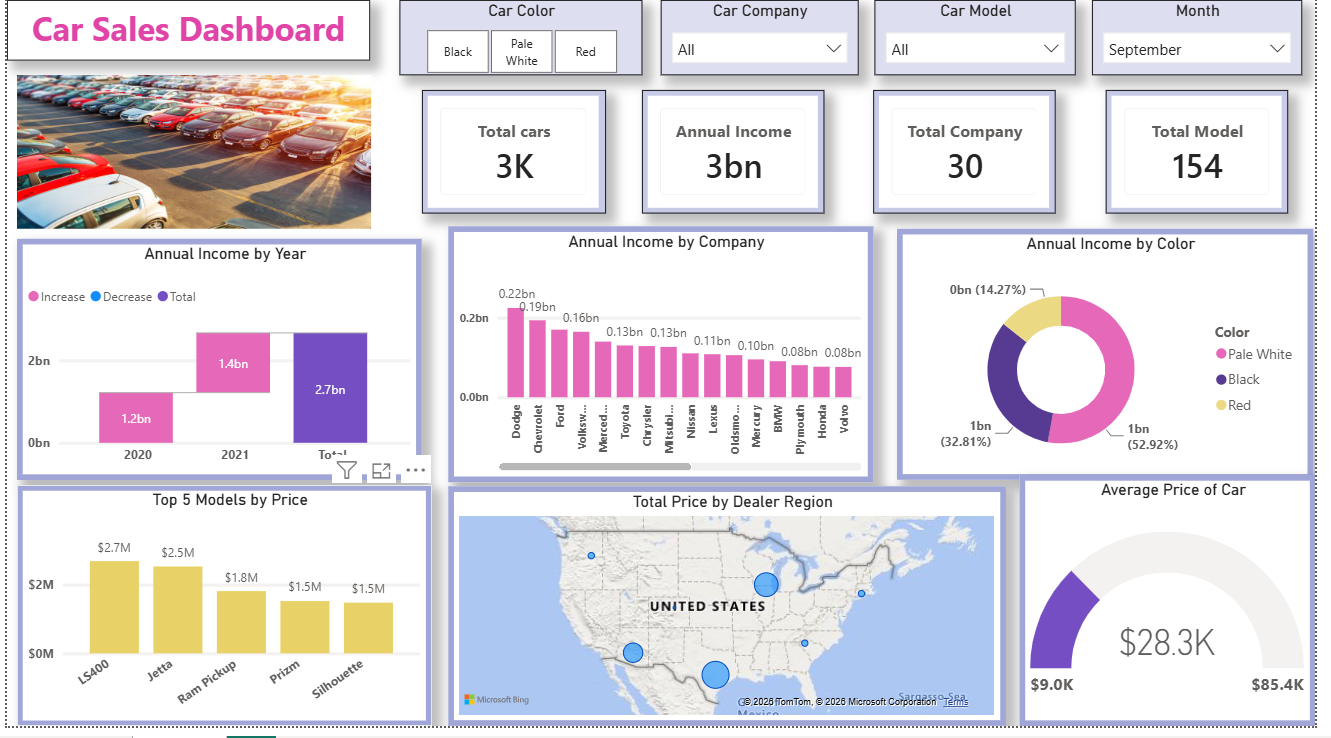

The page's visual inventory and layout, read from the dashboard file:
{"tool":"powerbi","page":{"name":"Page 1","canvas":[1280,720],"ordinal":0},"visuals":[{"type":"textbox","box":[0,9.6,355.4,59],"z":0},{"type":"slicer","title":"Car Color","fields":{"Values":["Sheet1.Color"]},"box":[384,9.8,237.2,73.4],"z":1000},{"type":"slicer","title":"Car Company","fields":{"Values":["Sheet1.Company"]},"box":[639.5,9.8,193.2,73.4],"z":2000},{"type":"slicer","title":"Car Model","fields":{"Values":["Sheet1.Model"]},"box":[848.6,9.8,196.9,73.4],"z":3000},{"type":"slicer","title":"Month","fields":{"Values":["Sheet1.Date.Variation.Date Hierarchy.Month"]},"box":[1061.4,9.8,205.4,73.4],"z":4000},{"type":"cardVisual","fields":{"Data":["Sheet1.Total car"]},"box":[406,97.8,179.8,121.1],"z":5000},{"type":"cardVisual","fields":{"Data":["Sum(Sheet1.Annual Income)"]},"box":[621.2,97.8,178.5,121.1],"z":6000},{"type":"cardVisual","fields":{"Data":["Sheet1.Total Company"]},"box":[847.4,97.8,178.5,121.1],"z":7000},{"type":"cardVisual","fields":{"Data":["Sheet1.Total Model"]},"box":[1074.9,97.8,178.5,121.1],"z":8000},{"type":"image","box":[9.8,83.2,346.1,150.4],"z":9000},{"type":"waterfallChart","title":"Annual Income by Year","fields":{"Category":["Sheet1.Date.Variation.Date Hierarchy.Year"],"Y":["Sum(Sheet1.Annual Income)"]},"box":[9.8,243.3,396.2,236],"z":10000},{"type":"clusteredColumnChart","title":"Annual Income by Company","fields":{"Y":["Sum(Sheet1.Annual Income)"],"Category":["Sheet1.Company"]},"box":[431.7,231.1,415.8,250.7],"z":11000},{"type":"donutChart","title":"Annual Income by Color","fields":{"Category":["Sheet1.Color"],"Y":["Sum(Sheet1.Annual Income)"]},"box":[870.7,233.6,407.2,245.8],"z":12000},{"type":"columnChart","title":"Top 5 Models by Price","fields":{"Y":["Sum(Sheet1.Price ($))"],"Category":["Sheet1.Model"]},"box":[9.8,484.2,406,236],"z":13000},{"type":"map","title":"Total Price by Dealer Region","fields":{"Category":["Sheet1.Dealer_Region"],"Size":["Sum(Sheet1.Price ($))"]},"box":[431.7,485.5,545.4,234.8],"z":14000},{"type":"gauge","title":"Average Price of Car","fields":{"Y":["Avg(Sheet1.Price ($))"],"MinValue":["Min(Sheet1.Price ($))1"],"MaxValue":["Max(Sheet1.Price ($))2"]},"box":[990.5,474.5,289.8,245.8],"z":15000}]}

Visuals, with their boxes in screenshot pixels (x1, y1, x2, y2), scaled from the page's 1280x720 canvas onto the 1331x738 screenshot:
textbox: box=[0, 10, 370, 70]
"Car Color" slicer: box=[399, 10, 646, 85]
"Car Company" slicer: box=[665, 10, 866, 85]
"Car Model" slicer: box=[882, 10, 1087, 85]
"Month" slicer: box=[1104, 10, 1317, 85]
cardVisual - Sheet1.Total car: box=[422, 100, 609, 224]
cardVisual - Sum(Sheet1.Annual Income): box=[646, 100, 832, 224]
cardVisual - Sheet1.Total Company: box=[881, 100, 1067, 224]
cardVisual - Sheet1.Total Model: box=[1118, 100, 1303, 224]
image: box=[10, 85, 370, 239]
"Annual Income by Year" waterfallChart: box=[10, 249, 422, 491]
"Annual Income by Company" clusteredColumnChart: box=[449, 237, 881, 494]
"Annual Income by Color" donutChart: box=[905, 239, 1329, 491]
"Top 5 Models by Price" columnChart: box=[10, 496, 432, 737]
"Total Price by Dealer Region" map: box=[449, 498, 1016, 737]
"Average Price of Car" gauge: box=[1030, 486, 1330, 737]
